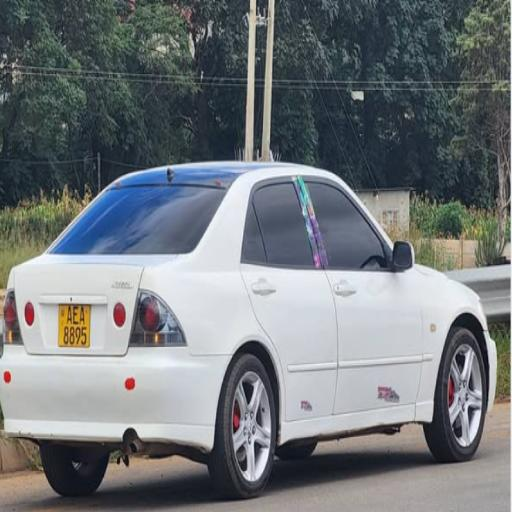number-plates: (56, 302, 88, 352)
